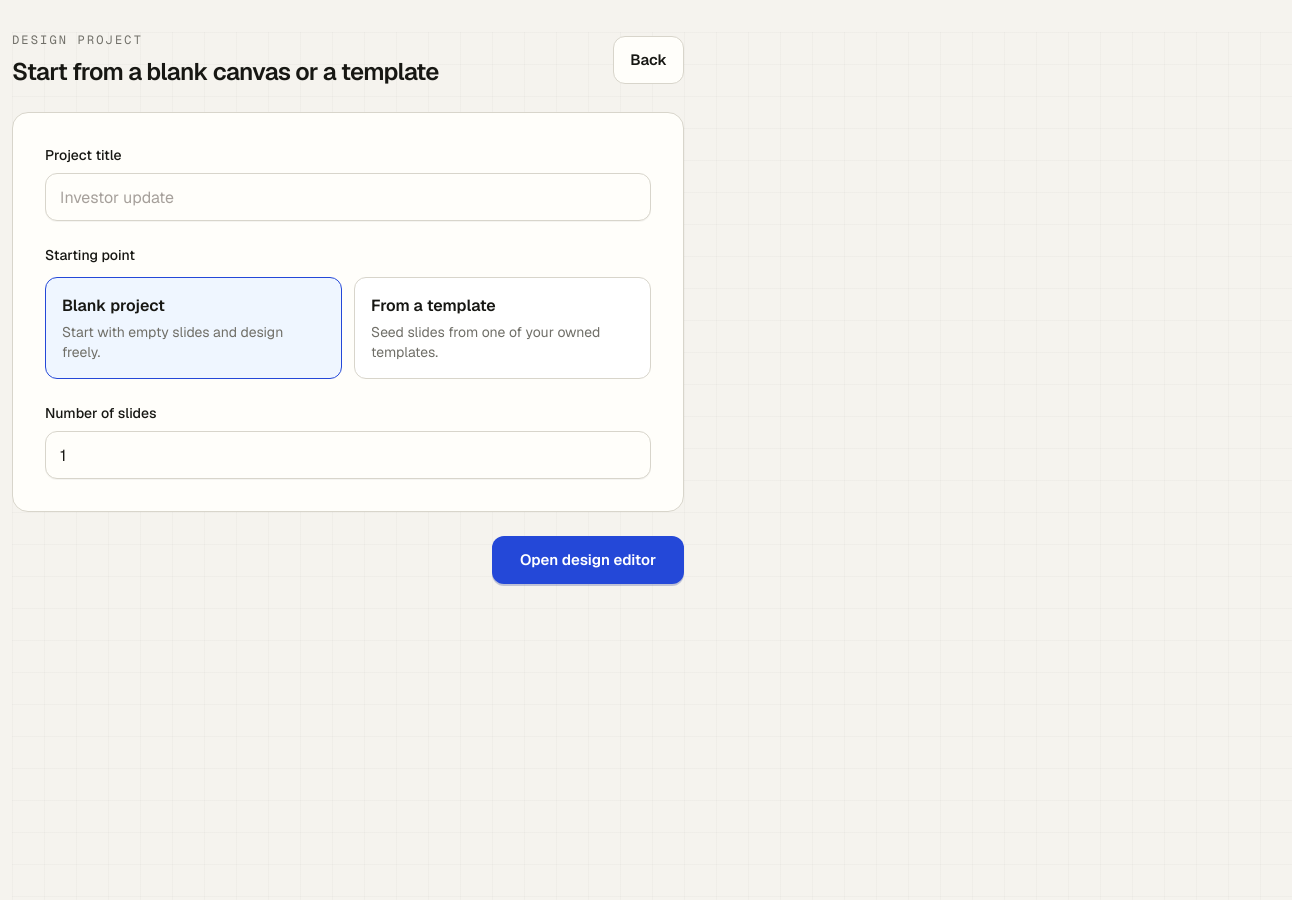
Scenario: DesignProjectSetup › defaults to blank mode with a slide count field and validates a missing title
expect the number field labelled "Number of slides" is shown: met, box top-left (45, 431), bottom-right (651, 479)
Click the button "Open design editor".
click(588, 560)  # box top-left (492, 536), bottom-right (684, 584)
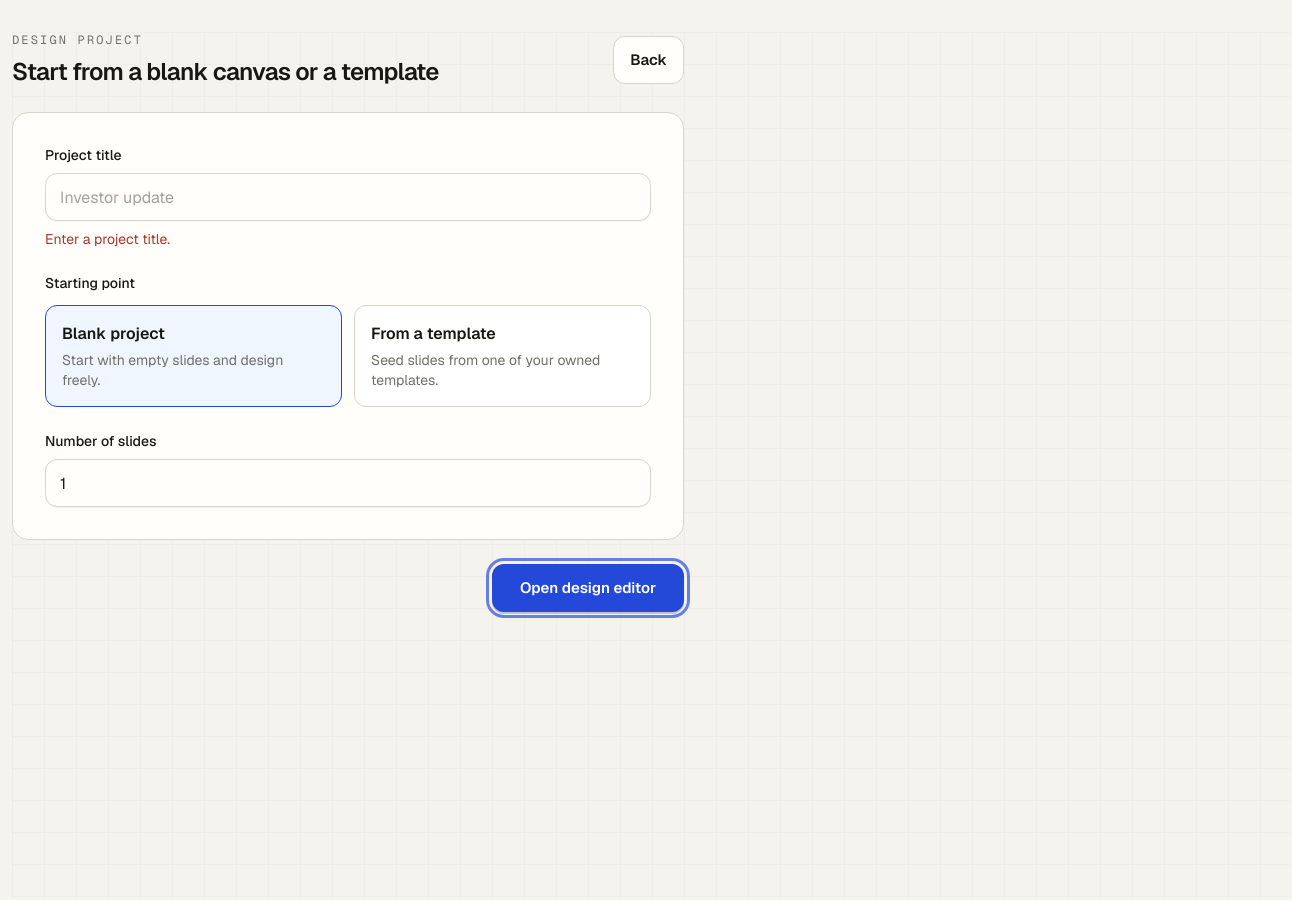
expect the text "Enter a project title." is shown: met, box top-left (45, 230), bottom-right (170, 248)
